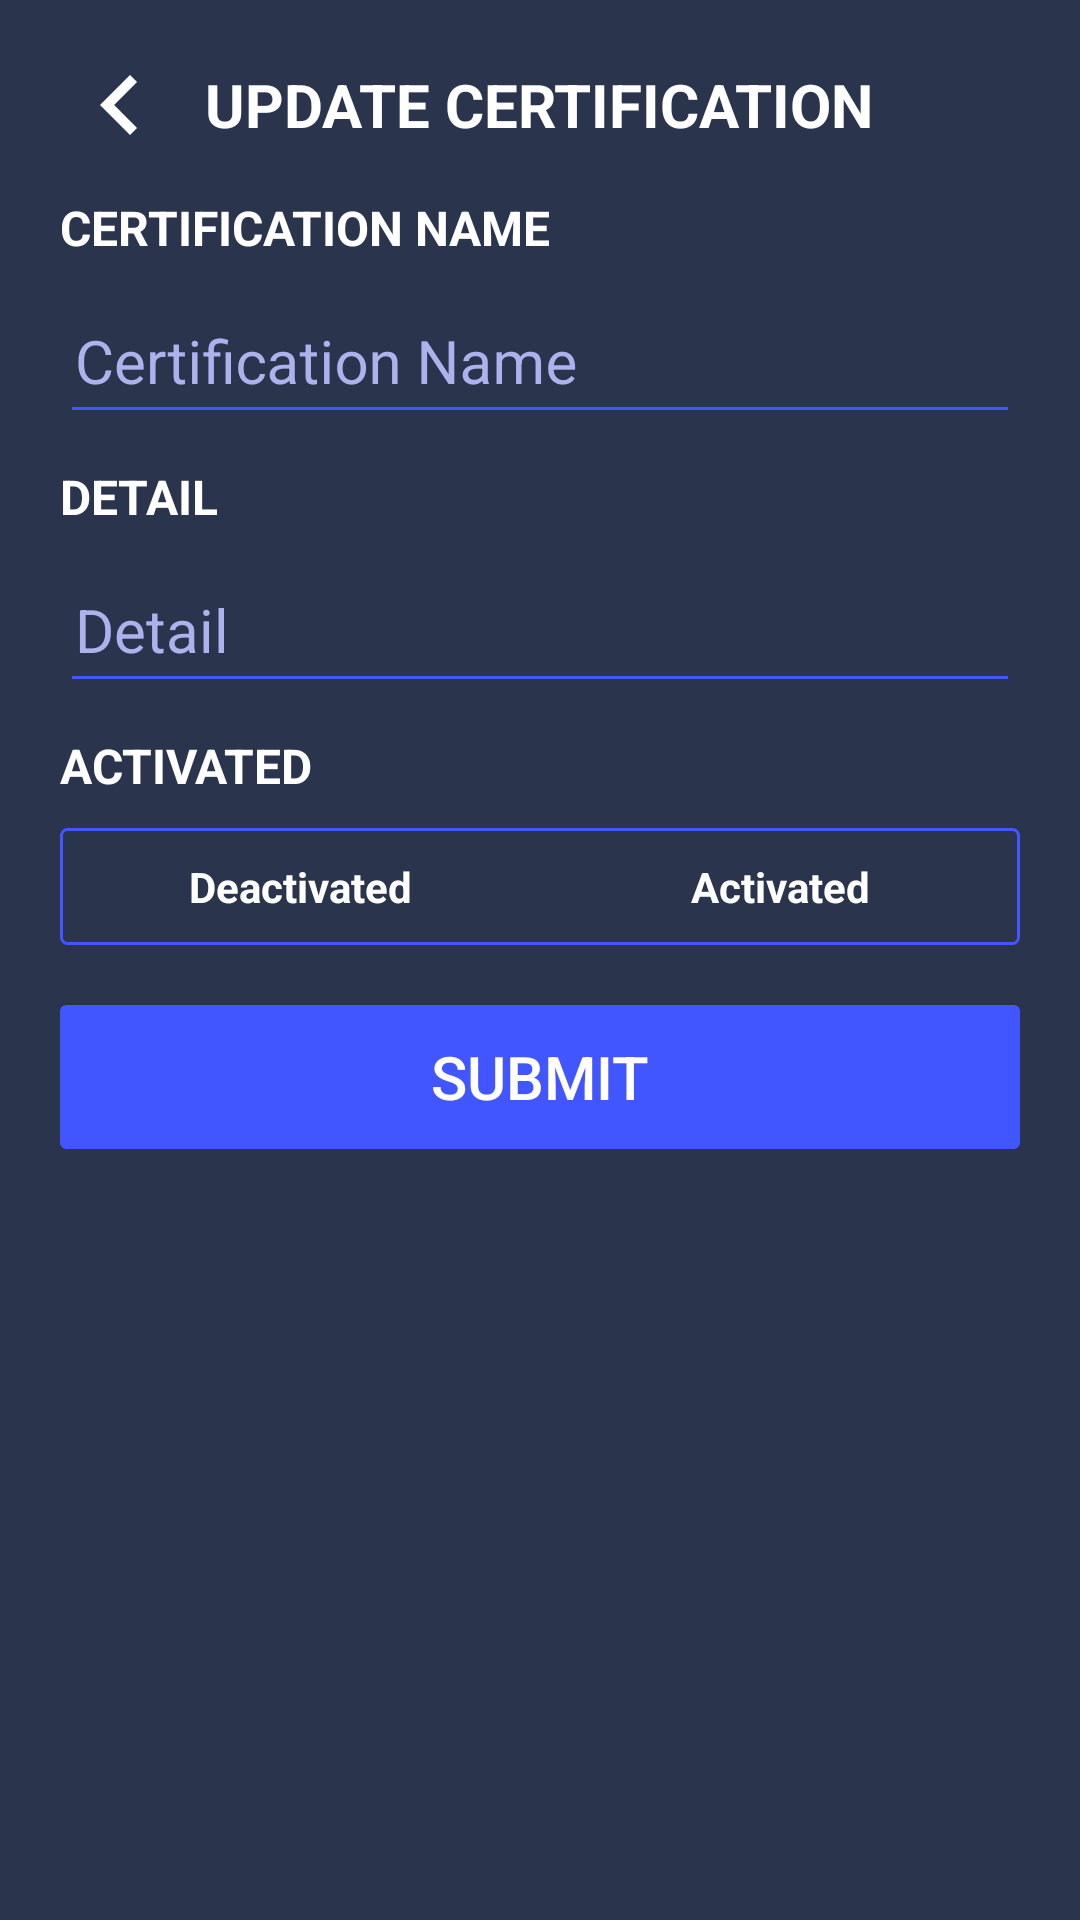

Named icons in this screenshot (1080w x 1920h) and their bounding boxes, (x1, y1, x2, y2):
chevron left: (100, 75, 137, 135)
